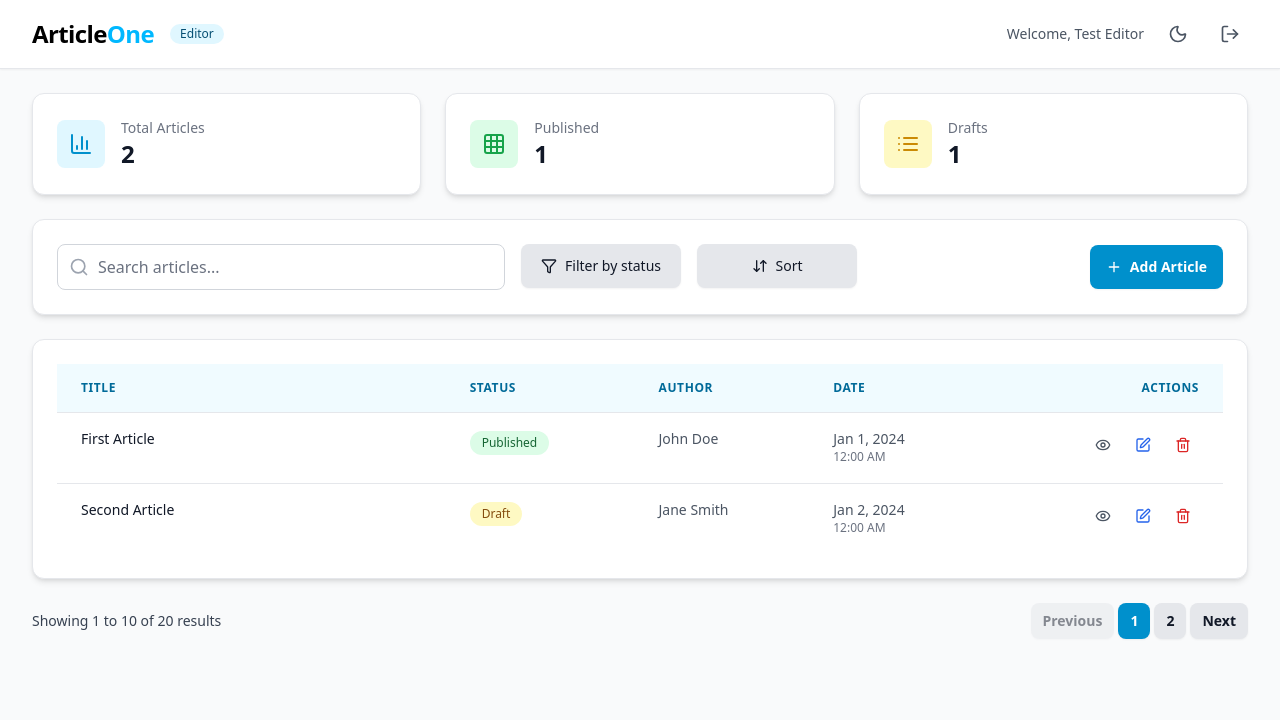
Test case: Dashboard (Integration) › changes page when pagination is used
Check: the text "First Article" is shown, box x1=81 y1=429 x2=155 y2=448
Click the button "Next".
click(1219, 621)  # box x1=1190 y1=603 x2=1248 y2=639
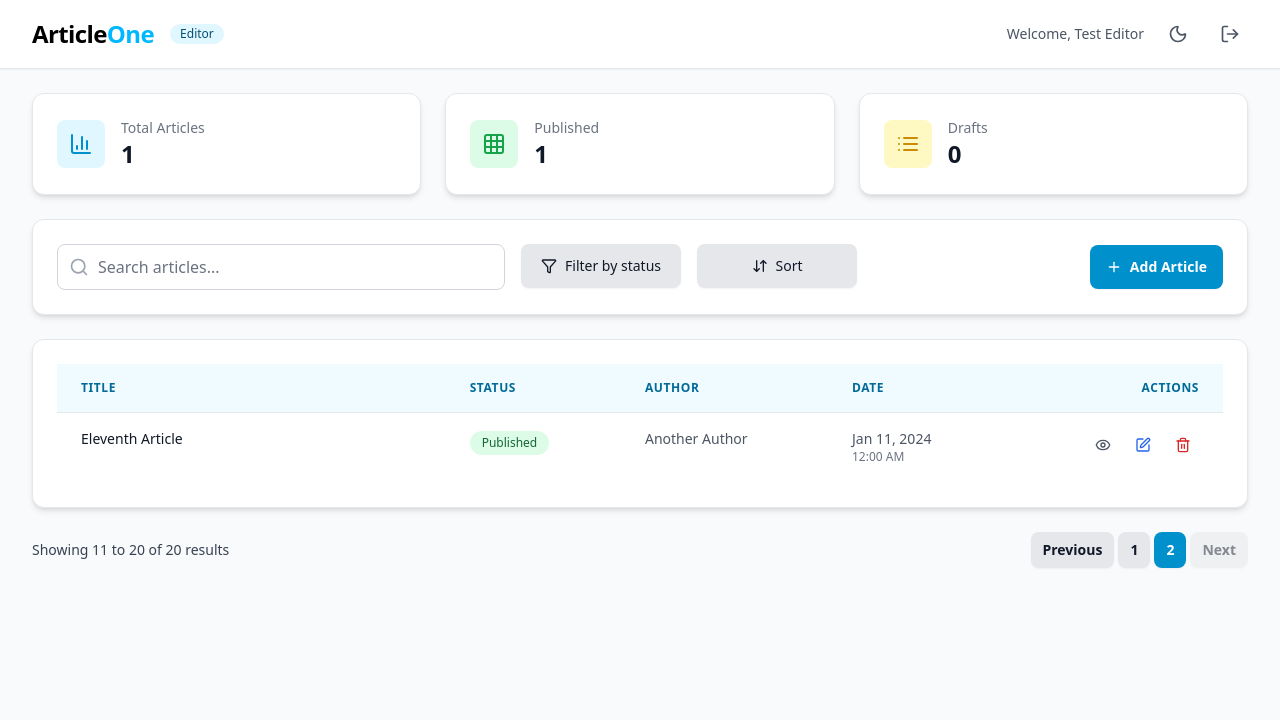
Check: the text "Eleventh Article" is shown, box x1=81 y1=429 x2=183 y2=448
